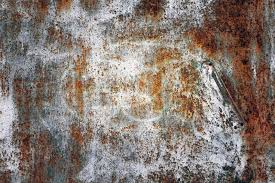rust: (181, 2, 275, 180), (9, 70, 55, 183), (63, 55, 90, 181), (174, 61, 206, 122), (130, 68, 168, 112), (125, 1, 171, 25), (148, 44, 189, 67)
